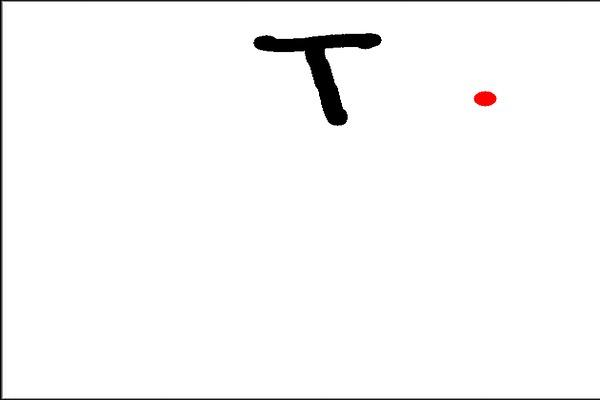T: (251, 29, 391, 131)
